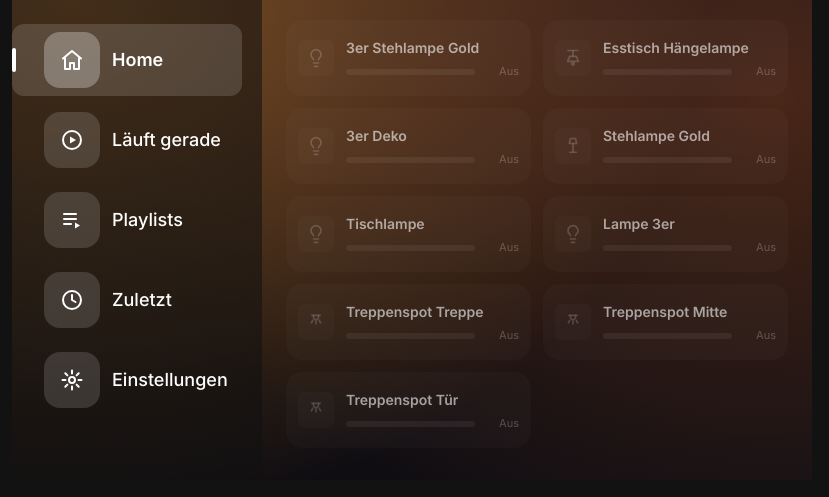
Test case: MainMenuView › MA mode: confirming a recently played playlist opens its track list (issue #138)
This screenshot has width=829, height=497.
Note: enter the 'Zuletzt' pane and confirm the playlist row
Click the button "Zuletzt": {"x": 127, "y": 300} x1=12 y1=264 x2=242 y2=336
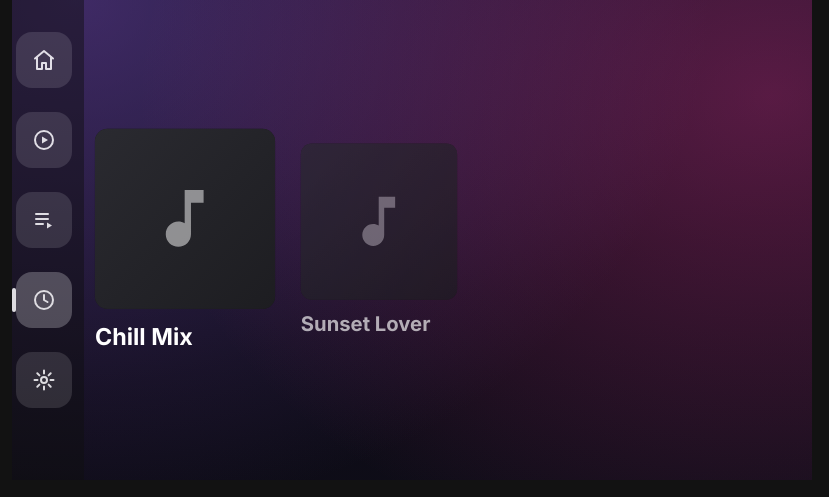
Now the heading "Chill Mix" is shown, box x1=95 y1=322 x2=193 y2=350
Click the button "Chill Mix": {"x": 185, "y": 240} x1=95 y1=128 x2=275 y2=352
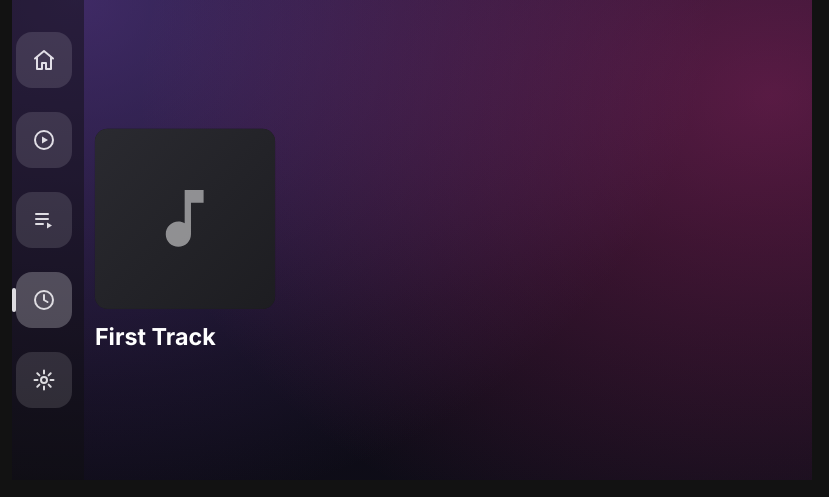
Now the heading "First Track" is shown, box x1=95 y1=322 x2=216 y2=350
